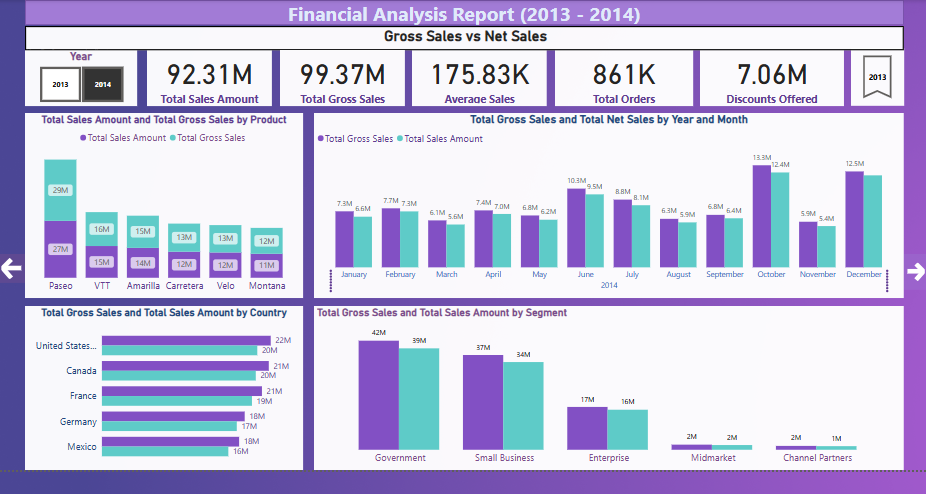

Layout of this report page (visuals, bound fields, positions):
{"tool":"powerbi","page":{"name":"analysis 3","canvas":[1605,813],"ordinal":2},"visuals":[{"type":"shape","box":[45,0,1520,43.3],"z":0},{"type":"card","title":"Orders | Current vs Prior Year","fields":{"Values":["Analysis by measures.Orders"]},"box":[961.6,86.5,238.7,96.9],"z":1000},{"type":"card","title":"Discounts  | Current vs Prior Year","fields":{"Values":["Analysis by measures.Discounts Offered"]},"box":[1212.4,86.5,249.1,96.9],"z":2000},{"type":"clusteredBarChart","fields":{"Category":["financials.Country"],"Y":["Analysis by measures.Total Gross Sales","Analysis by measures.Total Sales Amount"]},"box":[45,529.2,480.8,283.6],"z":3000},{"type":"actionButton","box":[1565.3,440.1,39.7,62.1],"z":4000},{"type":"actionButton","box":[0,440.1,44.9,50],"z":5000},{"type":"slicer","title":"Year","fields":{"Values":["Date Table.Date.Variation.Date Hierarchy.Year"]},"box":[45,86.5,193.7,96.9],"z":6000},{"type":"card","title":"Profit | Current vs Prior Year","fields":{"Values":["Analysis by measures.Total Sales Amount"]},"box":[256,86.5,216.2,96.9],"z":7000},{"type":"clusteredColumnChart","fields":{"Category":["financials.Segment"],"Y":["Analysis by measures.Total Gross Sales","Analysis by measures.Total Sales Amount"]},"box":[544.8,529.2,1020.4,283.6],"z":8000},{"type":"card","title":"Discounts  | Current vs Prior Year","fields":{"Values":["Analysis by measures.Average Sales"]},"box":[714.3,86.5,233.5,96.9],"z":9000},{"type":"actionButton","box":[1473.6,83,91.7,100.3],"z":10000},{"type":"shape","title":"Gross Sales vs Net Sales","box":[45,45,1520.3,41.5],"z":11000},{"type":"clusteredColumnChart","title":"Total Gross Sales and Total Net Sales by Year and Month","fields":{"Y":["Analysis by measures.Total Gross Sales","Analysis by measures.Total Sales Amount"],"Category":["Date Table.Date.Variation.Date Hierarchy.Year","Date Table.Date.Variation.Date Hierarchy.Month"]},"box":[544.8,195.4,1020.4,320],"z":12000},{"type":"card","title":"Discounts  | Current vs Prior Year","fields":{"Values":["Analysis by measures.Total Gross Sales"]},"box":[486,86.5,216.2,96.9],"z":13000},{"type":"lineStackedColumnComboChart","fields":{"Category":["financials.Product"],"Y":["Analysis by measures.Total Sales Amount","Analysis by measures.Total Gross Sales"]},"box":[45,195.4,480.8,320],"z":14000}]}

Visuals, with their boxes in screenshot pixels (x1, y1, x2, y2):
shape: [x1=23, y1=0, x2=888, y2=25]
"Orders | Current vs Prior Year" card: [x1=545, y1=49, x2=681, y2=104]
"Discounts  | Current vs Prior Year" card: [x1=687, y1=49, x2=829, y2=104]
clusteredBarChart - financials.Country x Analysis by measures.Total Gross Sales: [x1=23, y1=301, x2=297, y2=462]
actionButton: [x1=888, y1=250, x2=911, y2=286]
actionButton: [x1=0, y1=250, x2=23, y2=279]
"Year" slicer: [x1=23, y1=49, x2=133, y2=104]
"Profit | Current vs Prior Year" card: [x1=143, y1=49, x2=266, y2=104]
clusteredColumnChart - financials.Segment x Analysis by measures.Total Gross Sales: [x1=308, y1=301, x2=888, y2=462]
"Discounts  | Current vs Prior Year" card: [x1=404, y1=49, x2=537, y2=104]
actionButton: [x1=836, y1=47, x2=888, y2=104]
"Gross Sales vs Net Sales" shape: [x1=23, y1=26, x2=888, y2=49]
"Total Gross Sales and Total Net Sales by Year and Month" clusteredColumnChart: [x1=308, y1=111, x2=888, y2=293]
"Discounts  | Current vs Prior Year" card: [x1=274, y1=49, x2=397, y2=104]
lineStackedColumnComboChart - financials.Product x Analysis by measures.Total Sales Amount: [x1=23, y1=111, x2=297, y2=293]
